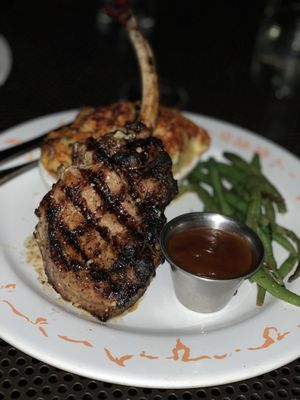soup: (27, 100, 210, 322)
